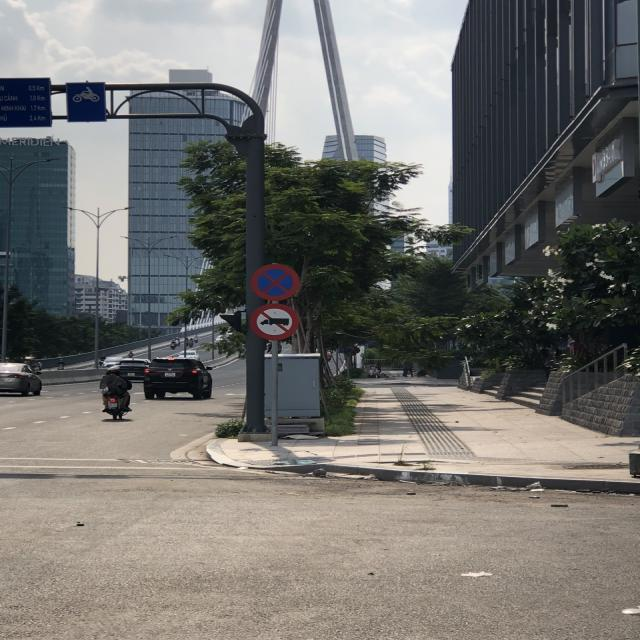Bien bao cam dung xe va do xe: (244, 258, 307, 301)
Bien bao cam xe so-mi ro-mooc: (242, 301, 309, 346)
